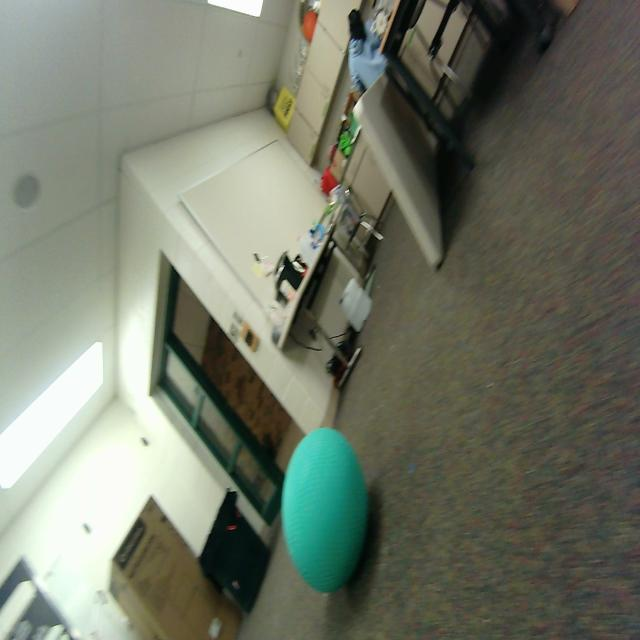algae: (281, 428, 369, 597)
